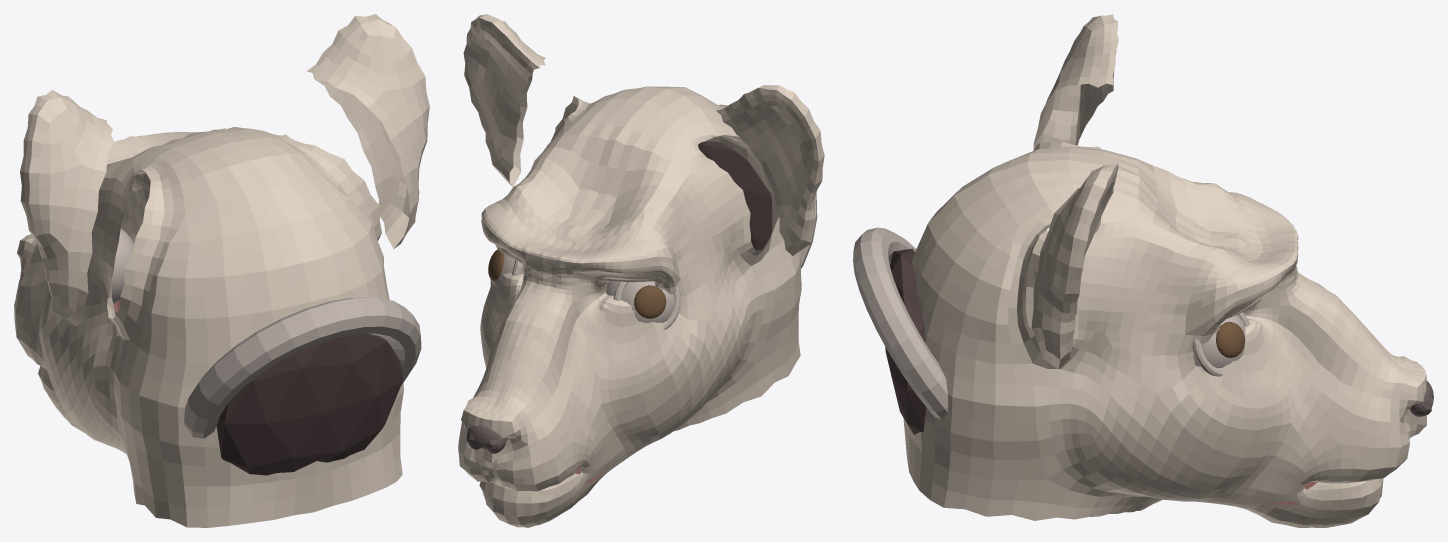
The model's file is neutral_base_head_v4.glb.
3 views of the same model, side by side, from view 1: azimuth 30°, elevation 25°; view 2: azimuth 150°, elevation 25°; view 3: azimuth 270°, elevation 25° (orthographic). The views are drawn at different scales.
Parts seen in each view (by area): view 1: TissueHead, NeckSocketDisc, Ear_L, Ear_R, Jaw, NeckSocket, Eyelid_R; view 2: TissueHead, Jaw, Ear_R, Ear_L, NeckSocketDisc, Eyelid_R, Iris_R, NoseLeather, LidMargin_R; view 3: TissueHead, Jaw, Ear_L, NeckSocket, Ear_R, NeckSocketDisc, Iris_L, Eyelid_L.
Boxes of the visible parts, left/top/right/bottom form: TissueHead: left=16, top=127, right=403, bottom=527; NeckSocketDisc: left=216, top=333, right=403, bottom=475; Ear_L: left=306, top=14, right=429, bottom=248; Ear_R: left=20, top=89, right=113, bottom=326; Jaw: left=14, top=296, right=186, bottom=527; NeckSocket: left=184, top=297, right=421, bottom=438; Eyelid_R: left=111, top=228, right=134, bottom=303; TissueHead: left=460, top=86, right=800, bottom=464; Jaw: left=458, top=256, right=801, bottom=527; Ear_R: left=716, top=85, right=824, bottom=255; Ear_L: left=463, top=14, right=545, bottom=187; NeckSocketDisc: left=698, top=141, right=772, bottom=250; Eyelid_R: left=606, top=281, right=674, bottom=322; Iris_R: left=634, top=285, right=666, bottom=318; NoseLeather: left=466, top=425, right=506, bottom=453; LidMargin_R: left=613, top=281, right=680, bottom=329; TissueHead: left=903, top=141, right=1426, bottom=507; Jaw: left=944, top=287, right=1426, bottom=527; Ear_L: left=1031, top=163, right=1118, bottom=369; NeckSocket: left=853, top=227, right=948, bottom=419; Ear_R: left=1033, top=14, right=1118, bottom=149; NeckSocketDisc: left=885, top=248, right=926, bottom=434; Iris_L: left=1216, top=321, right=1244, bottom=357; Eyelid_L: left=1193, top=315, right=1245, bottom=368.
Bounding box in the file's own units: 0.8408 × 0.8994 × 1.1.
